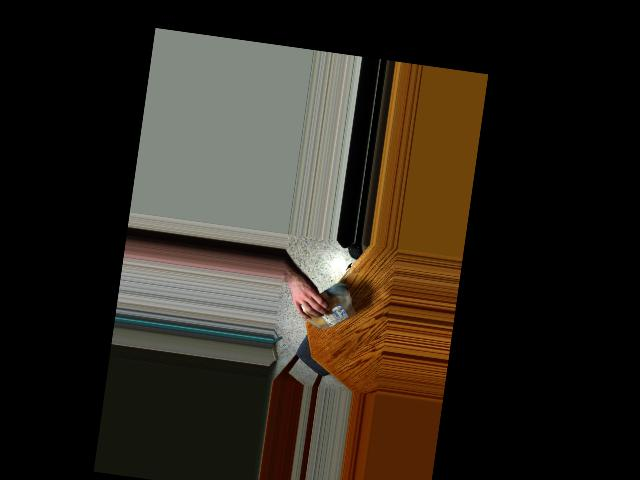cheese: (295, 283, 359, 337)
